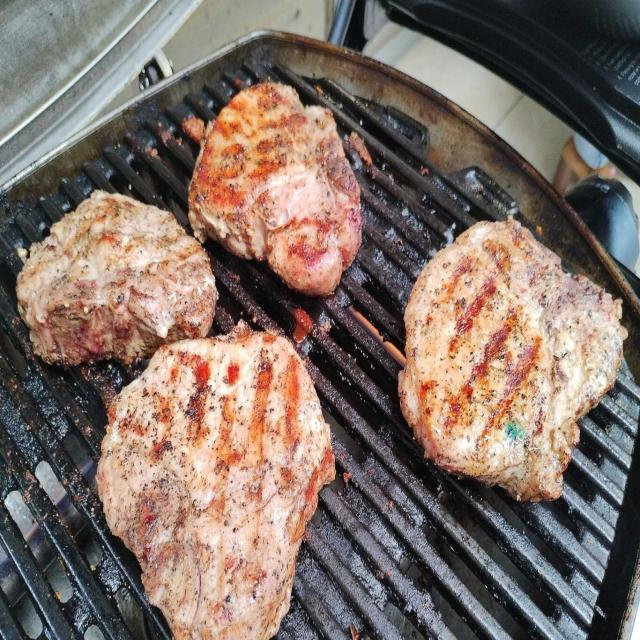carne de cerdo: (79, 331, 338, 634), (398, 219, 630, 504), (189, 78, 371, 293), (11, 175, 214, 357)
